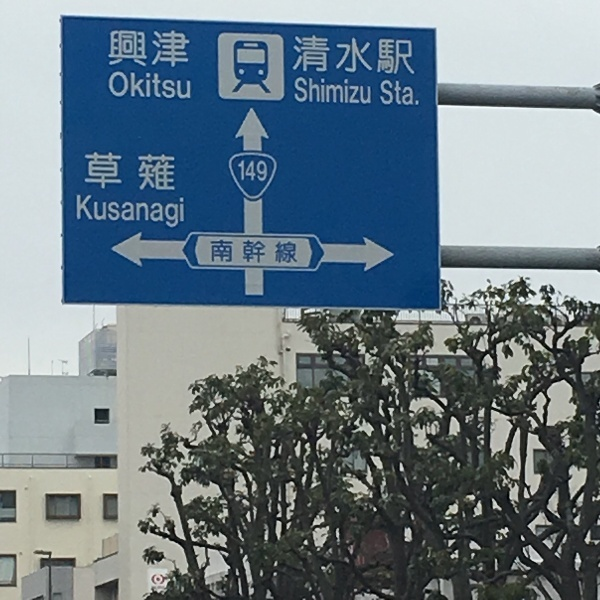text: (97, 151, 112, 193), (113, 151, 128, 193), (129, 151, 144, 193), (145, 151, 160, 193), (161, 151, 176, 193), (305, 36, 320, 78), (321, 36, 336, 78), (337, 36, 352, 78), (353, 36, 368, 78), (369, 36, 384, 78), (385, 36, 400, 78), (401, 36, 416, 78), (113, 30, 128, 70), (129, 30, 144, 70), (145, 30, 160, 70), (161, 30, 176, 70), (177, 30, 192, 70), (81, 193, 96, 231), (97, 193, 112, 231), (113, 193, 128, 231), (129, 193, 144, 231), (145, 193, 160, 231), (161, 193, 176, 231), (177, 70, 193, 102), (84, 151, 96, 193), (113, 70, 128, 102), (129, 70, 144, 102), (145, 70, 160, 102), (161, 70, 176, 102), (385, 77, 400, 108), (401, 77, 416, 108), (293, 36, 304, 78), (305, 75, 320, 105), (321, 75, 336, 105), (337, 75, 352, 105), (353, 75, 368, 105), (241, 158, 256, 185), (291, 75, 304, 105), (177, 193, 187, 231), (225, 241, 240, 265), (241, 241, 256, 265), (257, 241, 272, 265), (273, 241, 288, 265), (210, 241, 224, 265), (257, 158, 269, 185), (289, 241, 299, 265), (75, 193, 80, 231), (417, 77, 423, 108), (108, 30, 112, 70), (107, 70, 112, 102), (380, 77, 384, 108), (369, 75, 372, 105), (237, 158, 240, 185)
